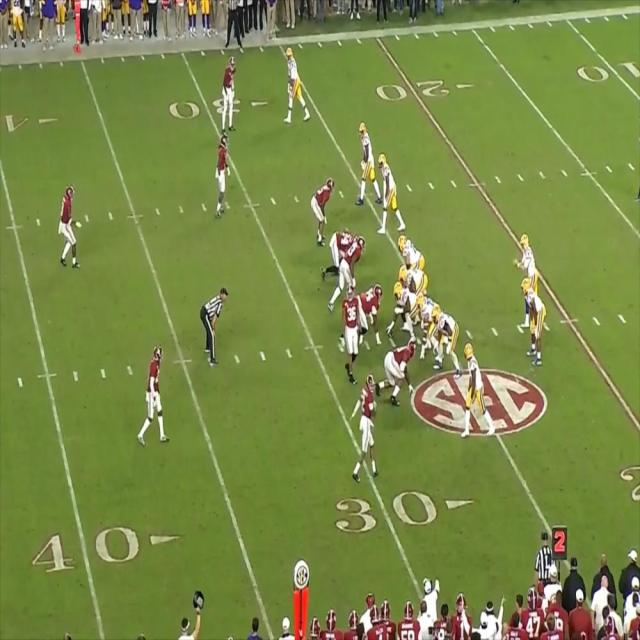center: (392, 282, 416, 332)
db: (145, 346, 163, 443), (358, 380, 374, 479), (59, 186, 77, 270), (224, 56, 238, 126)
lb: (309, 178, 332, 244), (337, 236, 366, 288), (345, 290, 360, 366), (218, 138, 231, 216)
qb: (518, 236, 538, 326)
skill: (465, 344, 491, 431), (525, 281, 547, 365), (380, 153, 400, 231), (284, 46, 305, 119), (358, 122, 376, 198)
